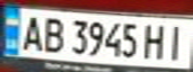3: (66, 17, 90, 56)
4: (103, 19, 124, 57)
5: (121, 20, 142, 60)
9: (84, 19, 106, 57)
A: (15, 11, 48, 52)
B: (36, 15, 69, 54)
H: (139, 20, 172, 61)
I: (163, 21, 193, 61)
